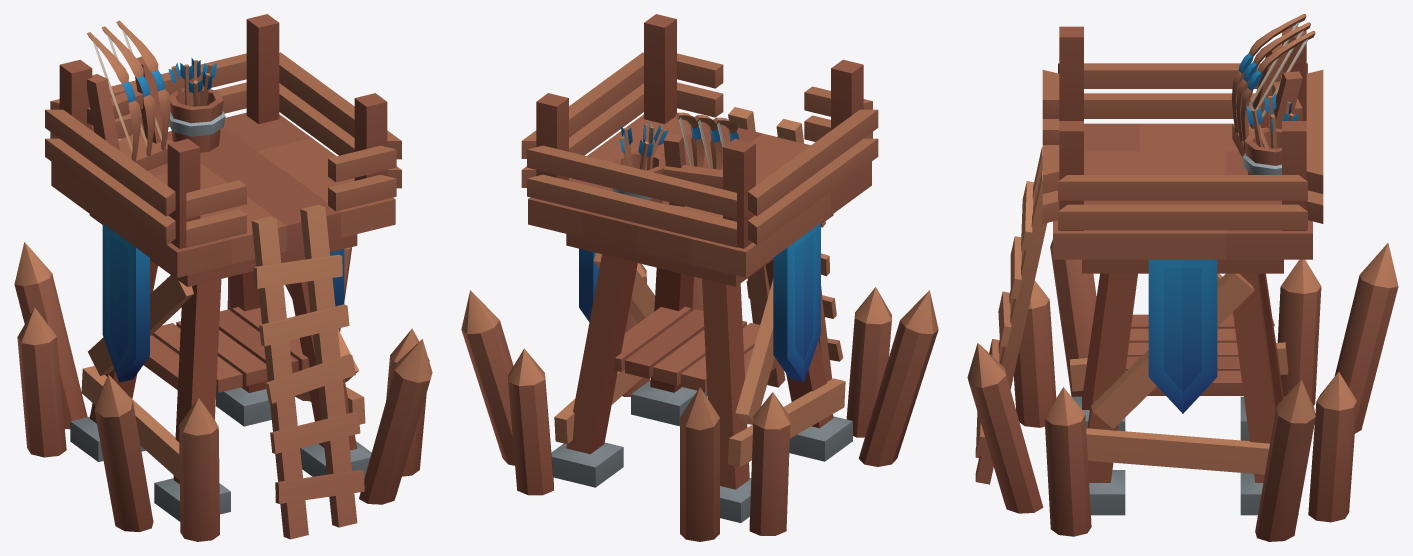
File: watchtower.glb
The picture shows the model from 3 angles, left to right: view 1: azimuth 30°, elevation 25°; view 2: azimuth 150°, elevation 25°; view 3: azimuth 270°, elevation 25°; orthographic projection. The views are drawn at different scales.
Visible parts, largest first — view 1: building_watchtower_blue; view 2: building_watchtower_blue; view 3: building_watchtower_blue.
Boxes of the visible parts, x1,y1,x2,y2 form: building_watchtower_blue: [14, 14, 432, 541]; building_watchtower_blue: [461, 14, 938, 541]; building_watchtower_blue: [967, 14, 1398, 541].
Bounding box in the file's own units: 1.04 × 1.11 × 1.04.
Materials: 1 (1 with a texture image).
